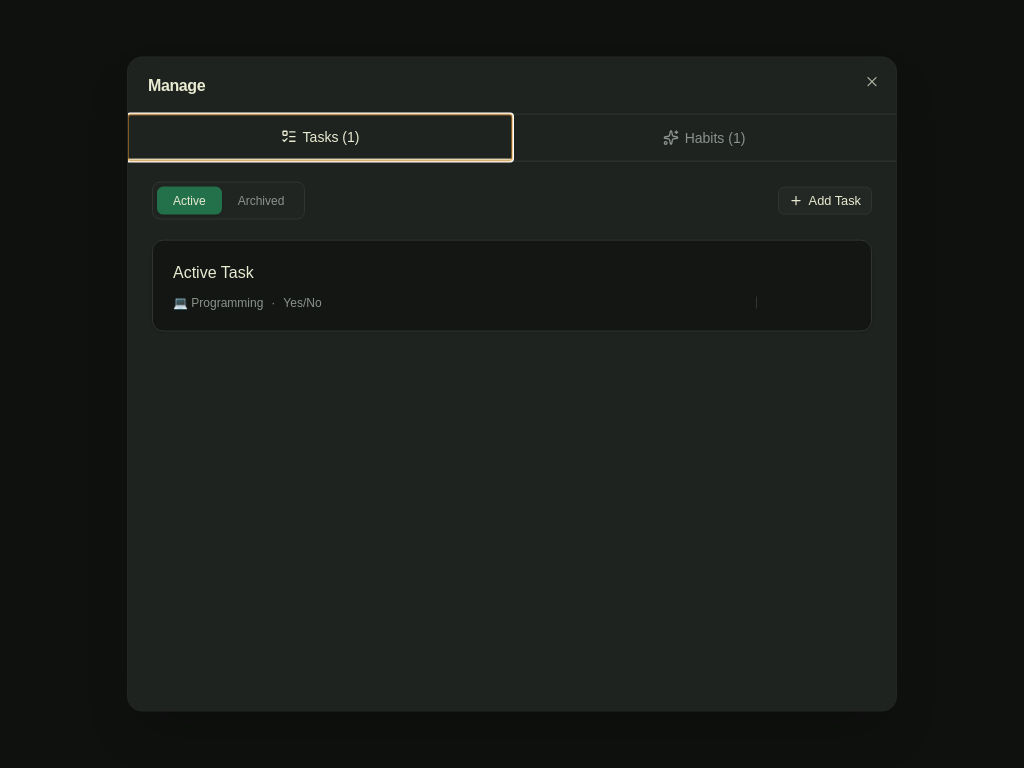
Test: ManageModal › renders tasks tab by default and switches to habits
The width and height of the screenshot is (1024, 768).
Expected: the text "Active Task" is shown, left=173, top=264, right=254, bottom=281
Expected: the text "Health Habit" is not shown
// Switch to habits
Click the button "Habits (1)". click: (704, 138)
box: left=512, top=115, right=896, bottom=161
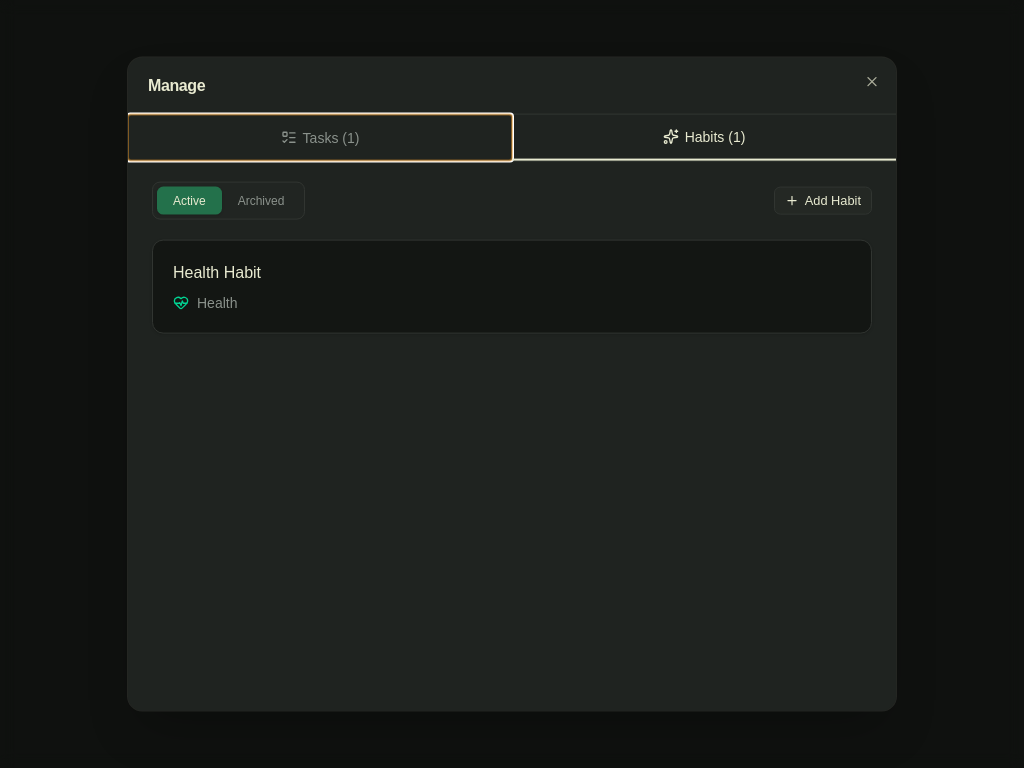
Now the text "Health Habit" is shown, box left=173, top=264, right=261, bottom=281
Now the text "Active Task" is gone
